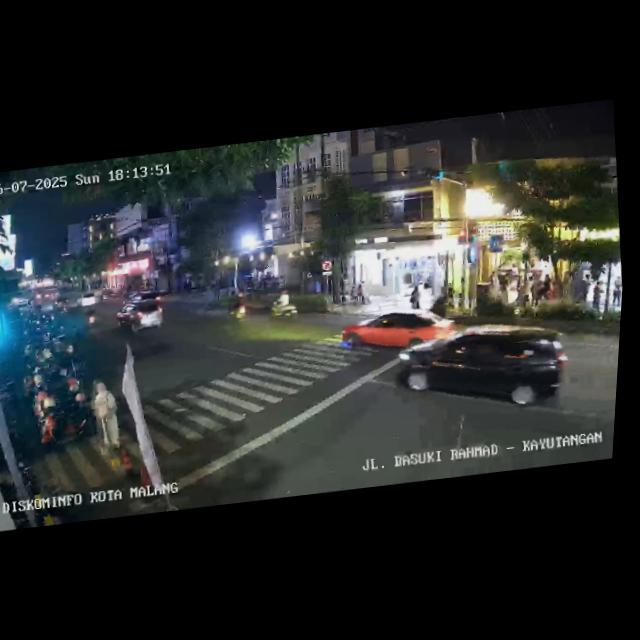car: (387, 314, 576, 427), (337, 302, 457, 354), (114, 297, 166, 335), (76, 292, 99, 310)
motorcycle: (268, 286, 302, 324), (229, 293, 250, 325), (83, 305, 101, 332)
person: (86, 376, 127, 455), (590, 281, 606, 315), (527, 275, 541, 305), (609, 276, 623, 305), (578, 273, 593, 300), (408, 283, 422, 310), (514, 274, 525, 304)
